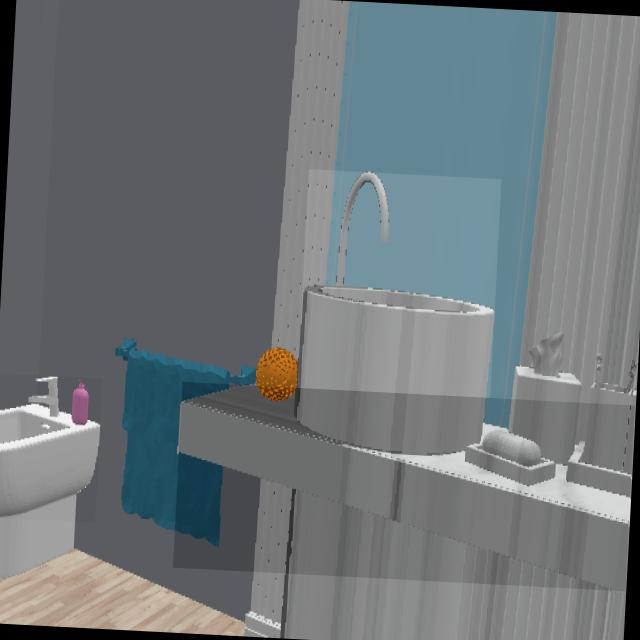shelf: (180, 387, 631, 590)
washbasin: (296, 172, 494, 455), (0, 376, 100, 517)
